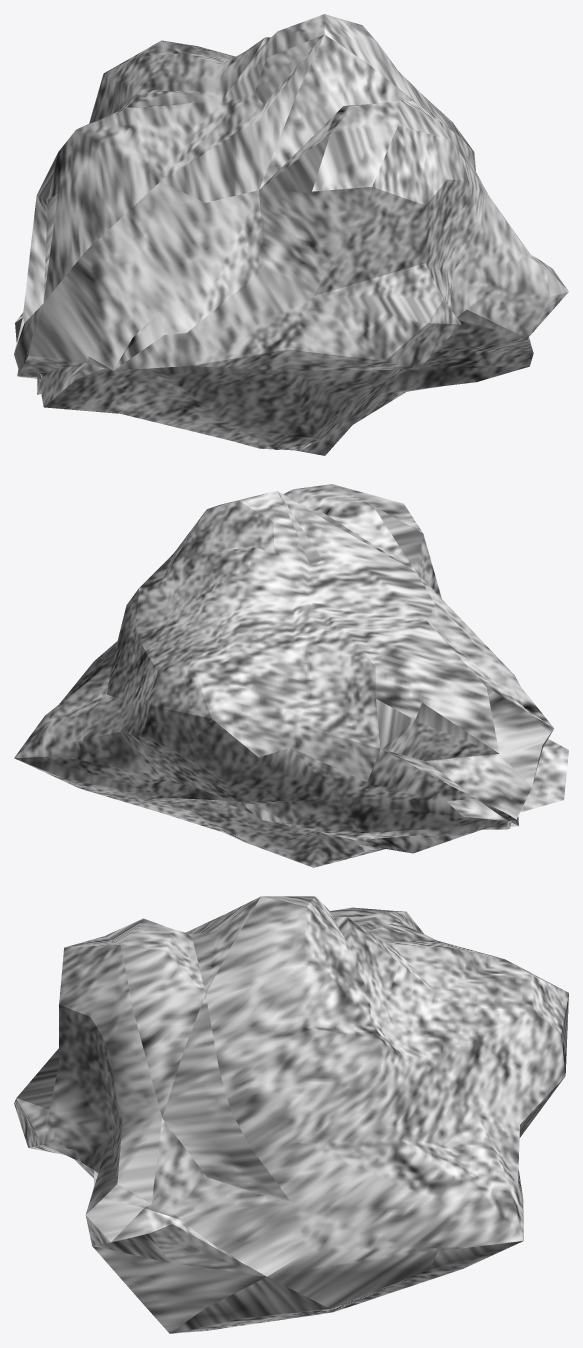
Rendered from Rock_Asset_12.fbx.
3 views of the same model, one above another, from view 1: azimuth 30°, elevation 25°; view 2: azimuth 150°, elevation 25°; view 3: azimuth 270°, elevation 25° (orthographic). The views are drawn at different scales.
Parts seen in each view (by area): view 1: Rock_Asset; view 2: Rock_Asset; view 3: Rock_Asset.
Boxes of the visible parts, x1=… form: Rock_Asset: x1=14, y1=14, x2=568, y2=455; Rock_Asset: x1=14, y1=484, x2=568, y2=867; Rock_Asset: x1=14, y1=896, x2=568, y2=1333.
Size of the model in its own units: 2.33 by 1.88 by 2.2.
1 material, 1 textured.
